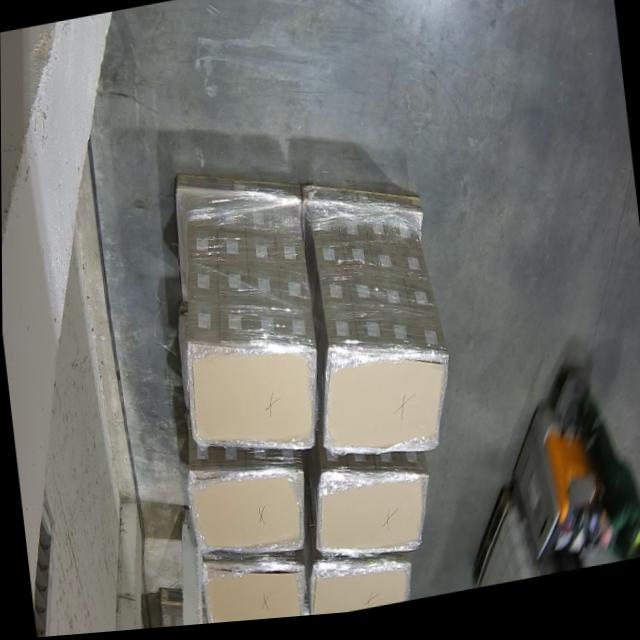pallet: (185, 348, 316, 456), (326, 355, 445, 457), (187, 475, 303, 558), (317, 480, 429, 557), (198, 561, 301, 627), (310, 565, 413, 620)
worker: (458, 368, 640, 599)
